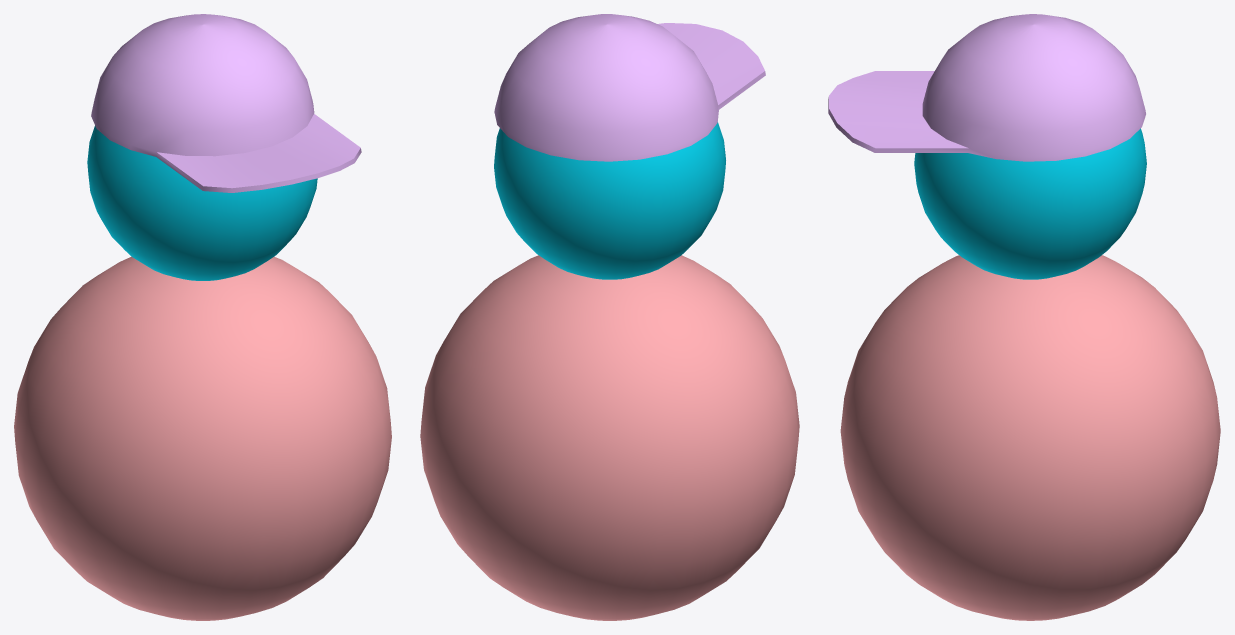
File: Gosn7.fbx
3 views of the same model, side by side, from view 1: azimuth 30°, elevation 25°; view 2: azimuth 150°, elevation 25°; view 3: azimuth 270°, elevation 25° (orthographic).
Parts seen in each view (by area): view 1: cika_7, cika_7.002, cika_7.001; view 2: cika_7, cika_7.002, cika_7.001; view 3: cika_7, cika_7.002, cika_7.001.
Boxes of the visible parts, bbox=[...] form: cika_7: bbox=[14, 256, 391, 620]; cika_7.002: bbox=[91, 14, 361, 192]; cika_7.001: bbox=[87, 125, 317, 280]; cika_7: bbox=[420, 255, 799, 620]; cika_7.002: bbox=[494, 14, 765, 161]; cika_7.001: bbox=[494, 122, 725, 279]; cika_7: bbox=[840, 255, 1220, 620]; cika_7.002: bbox=[828, 14, 1145, 161]; cika_7.001: bbox=[914, 128, 1146, 279].
Bounding box in the file's own units: 5301 × 8915 × 5474.
